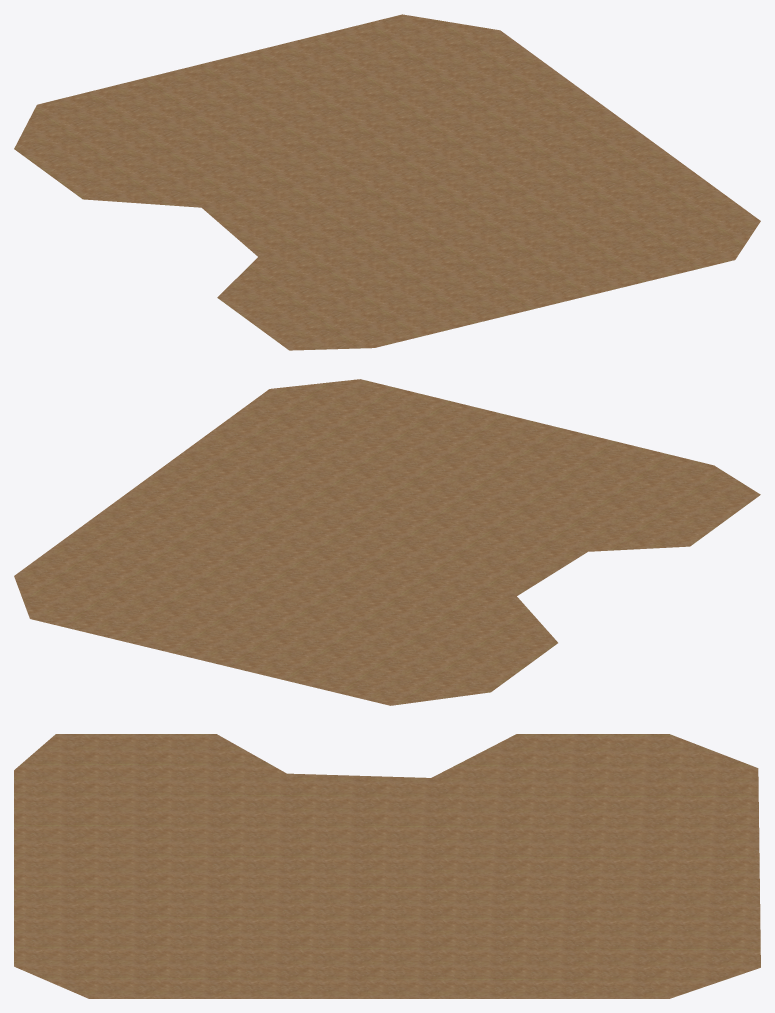
Rendered from guchengqishituan_qiangzhuan_03.FBX.
The picture shows the model from 3 angles, top to bottom: view 1: azimuth 30°, elevation 25°; view 2: azimuth 150°, elevation 25°; view 3: azimuth 270°, elevation 25°; orthographic projection. The views are drawn at different scales.
Parts seen in each view (by area): view 1: guchengqishituan_qiangzhuan_3; view 2: guchengqishituan_qiangzhuan_3; view 3: guchengqishituan_qiangzhuan_3.
Boxes of the visible parts, bbox=[...] form: guchengqishituan_qiangzhuan_3: bbox=[14, 14, 760, 350]; guchengqishituan_qiangzhuan_3: bbox=[14, 379, 760, 705]; guchengqishituan_qiangzhuan_3: bbox=[14, 734, 760, 998].
Size of the model in its own units: 3349 by 0.000106 by 3994.
